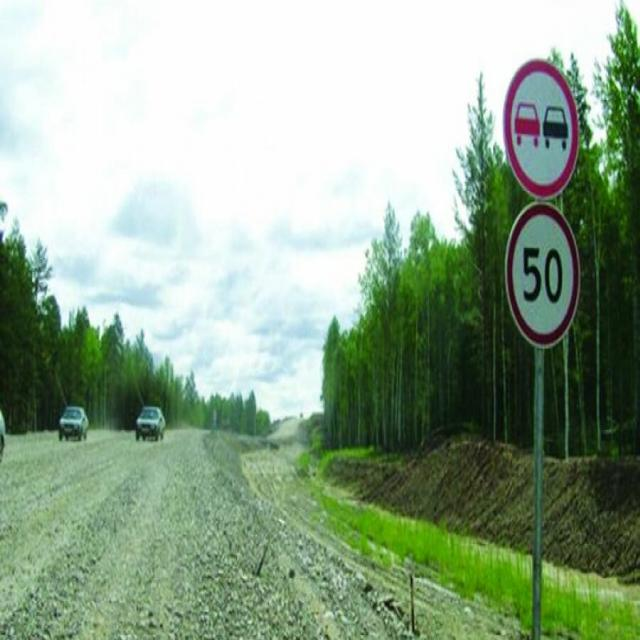no overtaking: (501, 55, 584, 202)
